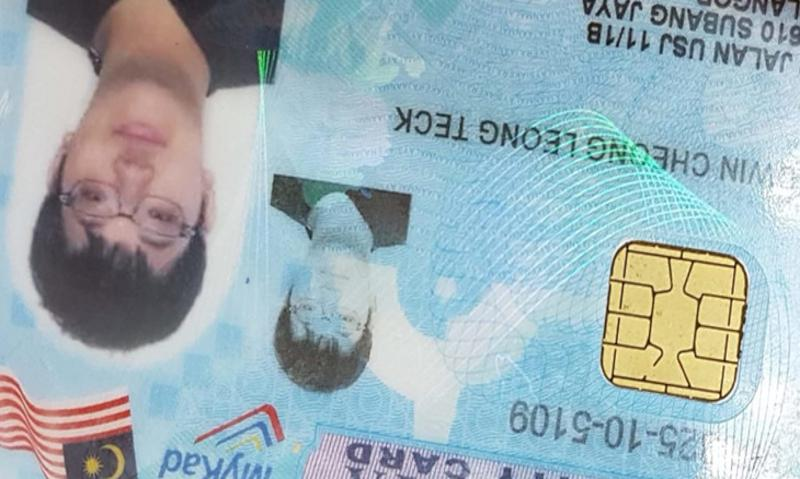hologram: (446, 161, 596, 351)
hologramB: (286, 1, 392, 173)
